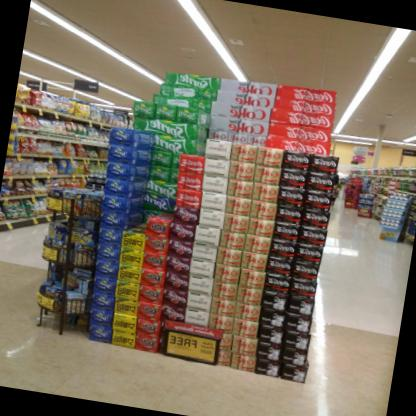empty_space: (125, 184, 156, 235), (155, 170, 179, 219)
